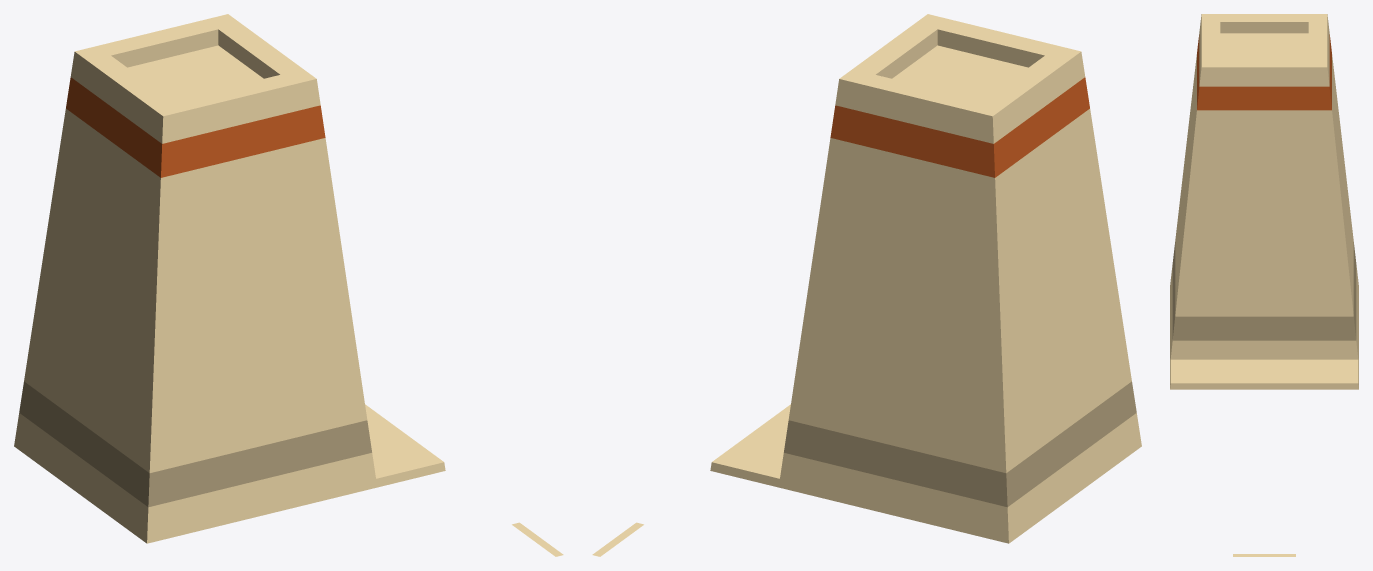
File: Mid_Triangle.fbx
3 renders of one model, left to right at view 1: azimuth 30°, elevation 25°; view 2: azimuth 150°, elevation 25°; view 3: azimuth 270°, elevation 25°, orthographic. The views are drawn at different scales.
Visible parts, largest first — view 1: Mid_Triangle; view 2: Mid_Triangle; view 3: Mid_Triangle.
Boxes of the visible parts, bbox=[...] form: Mid_Triangle: bbox=[14, 14, 563, 556]; Mid_Triangle: bbox=[592, 14, 1141, 556]; Mid_Triangle: bbox=[1170, 14, 1358, 556].
Size of the model in its own units: 338 by 391 by 169.
